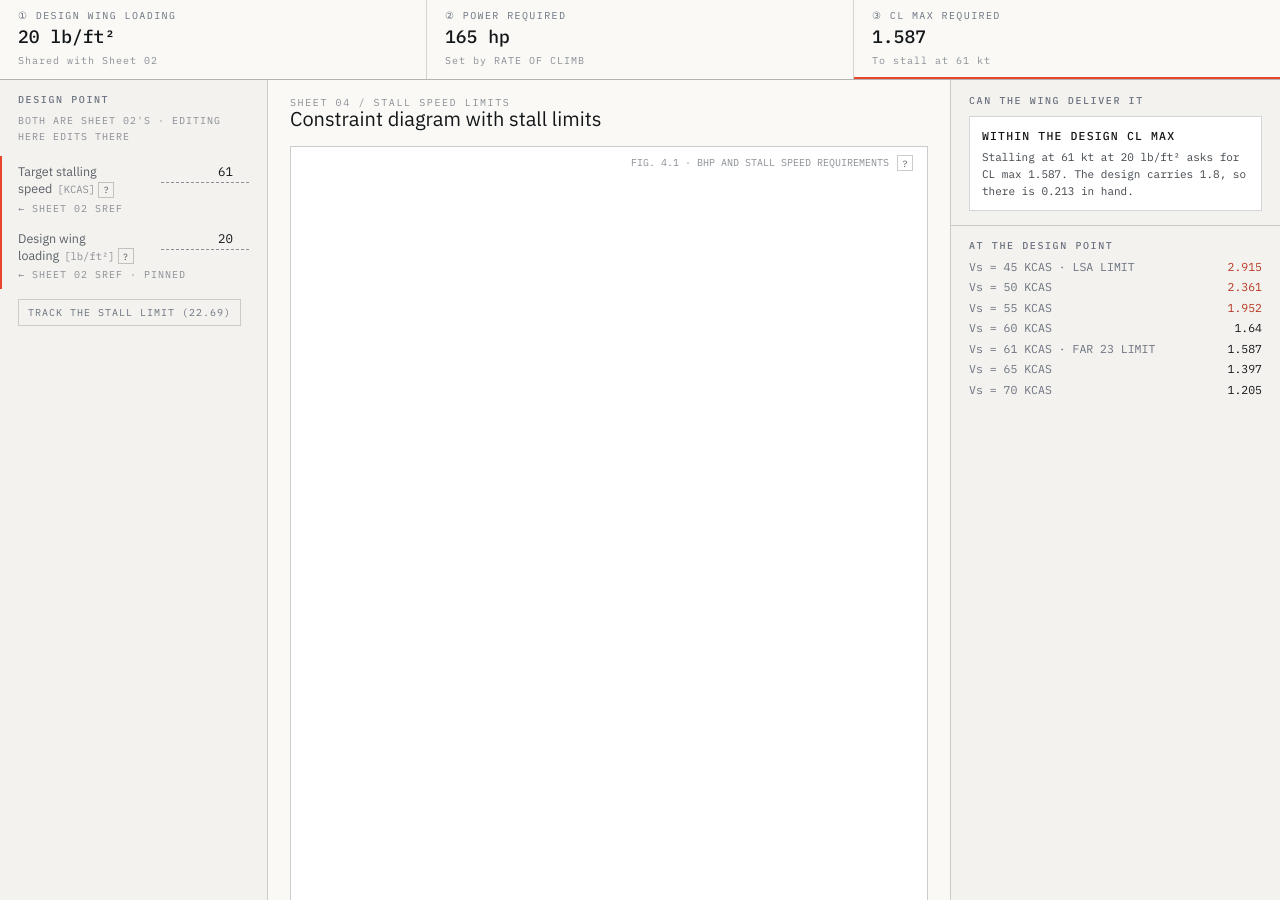
StallLimits › writes the stall speed to the atom Sheet 02 owns
This screenshot has width=1280, height=900.
Replace the text in the number field named "Target stalling speed" with "55" at coordinates (205, 173), box x1=161 y1=163 x2=249 y2=183
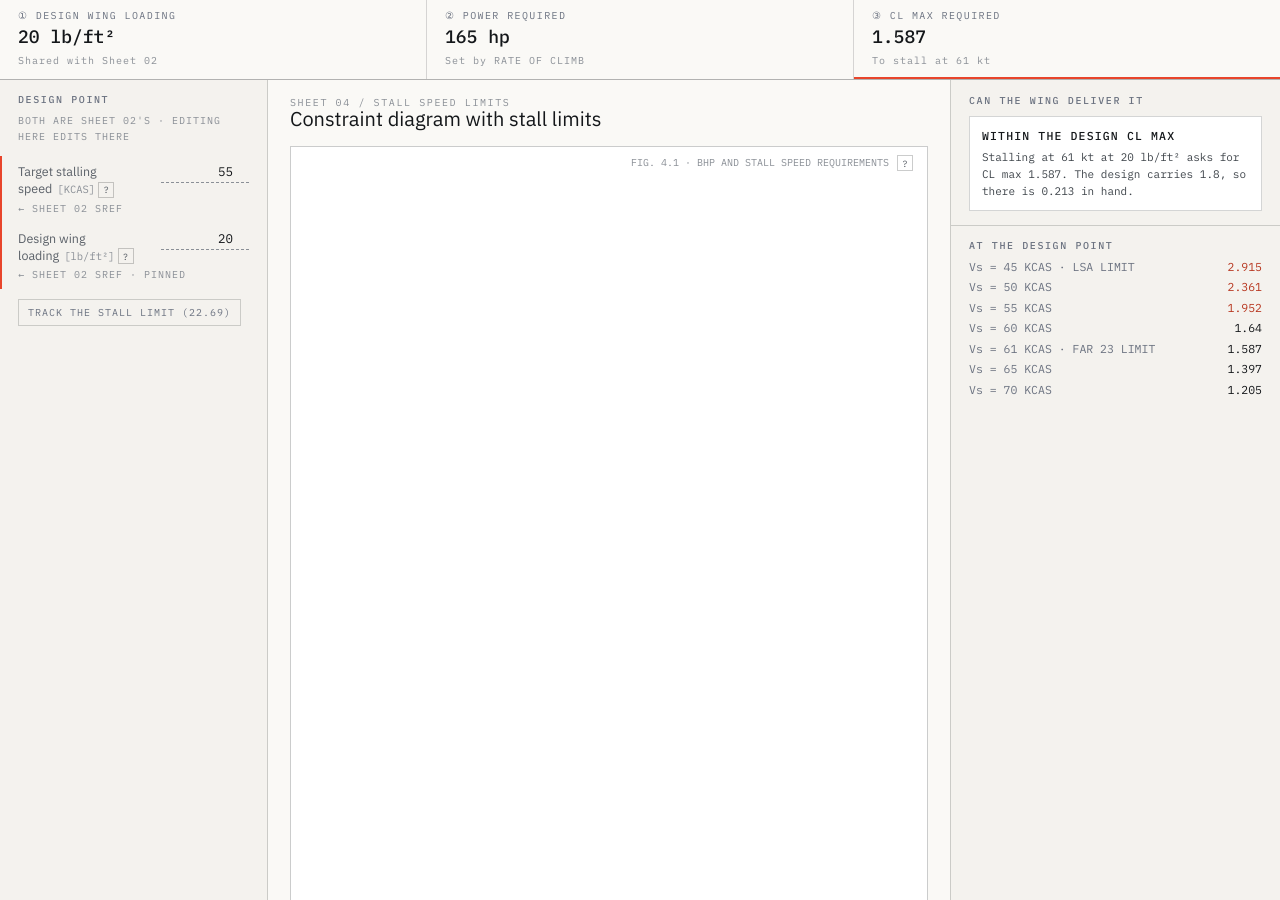
Leave the number field named "Target stalling speed", box x1=161 y1=163 x2=249 y2=183
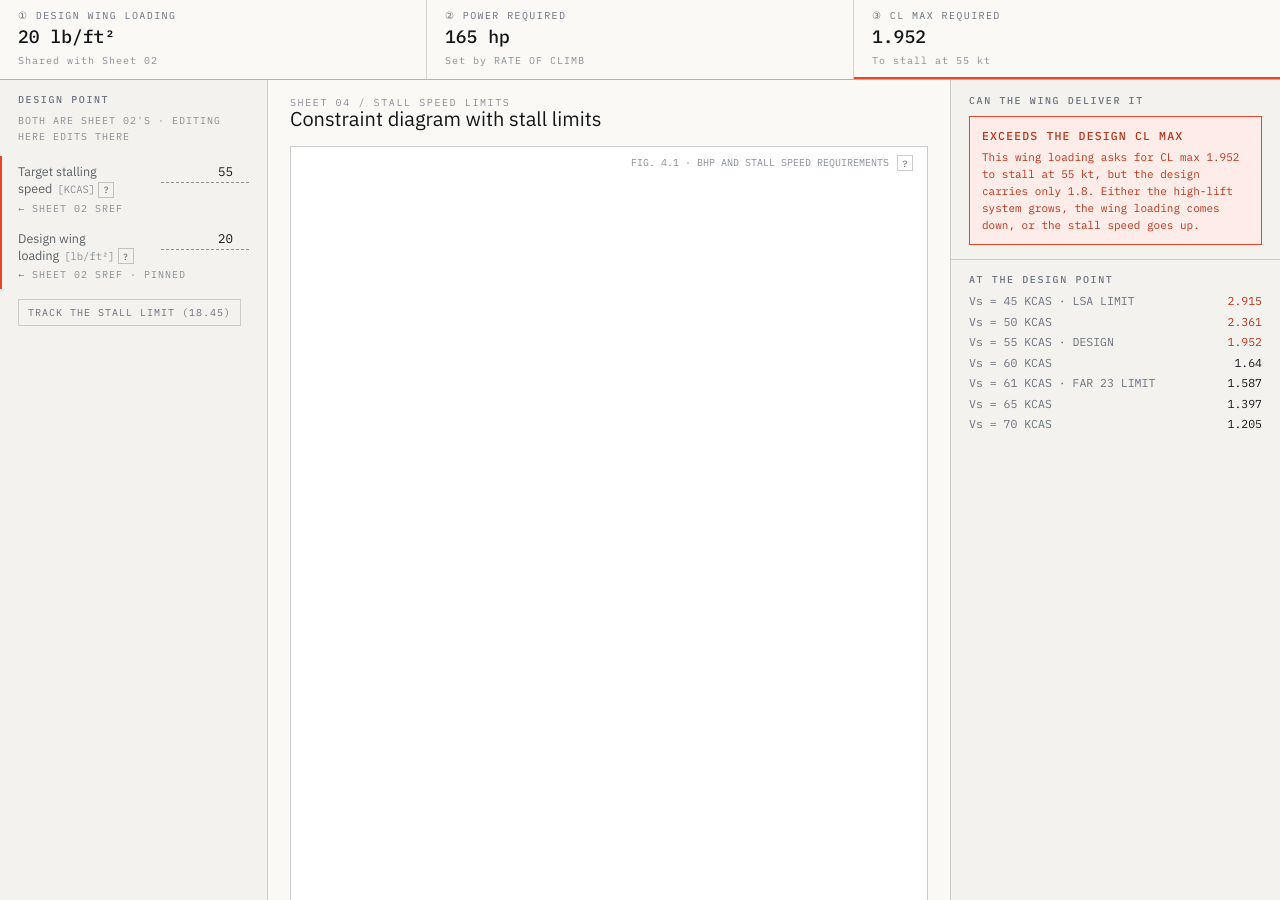
Expected: the text "To stall at 55 kt" is shown, x1=872 y1=54 x2=991 y2=67
